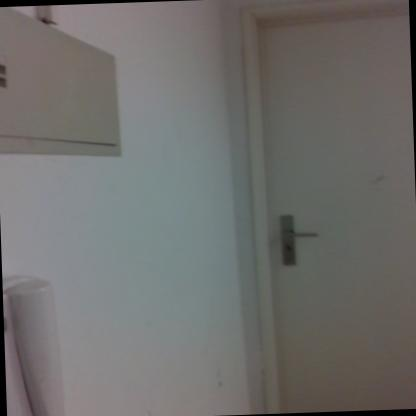closed: (229, 1, 416, 406)
